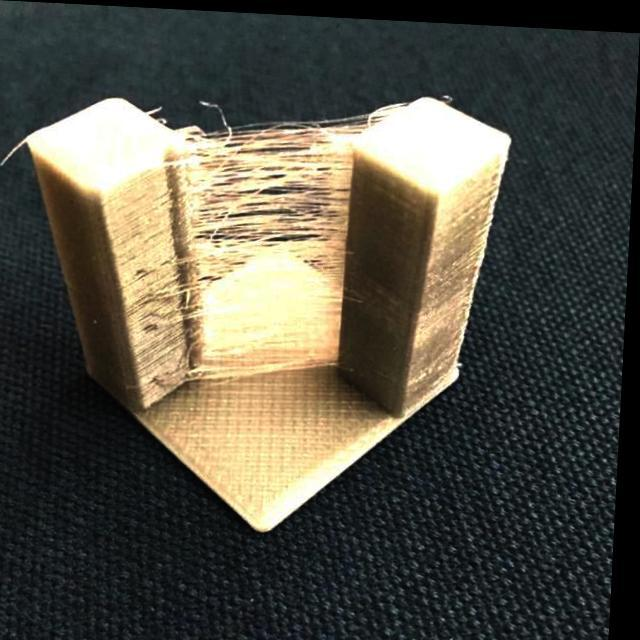stringing: (159, 79, 368, 390)
